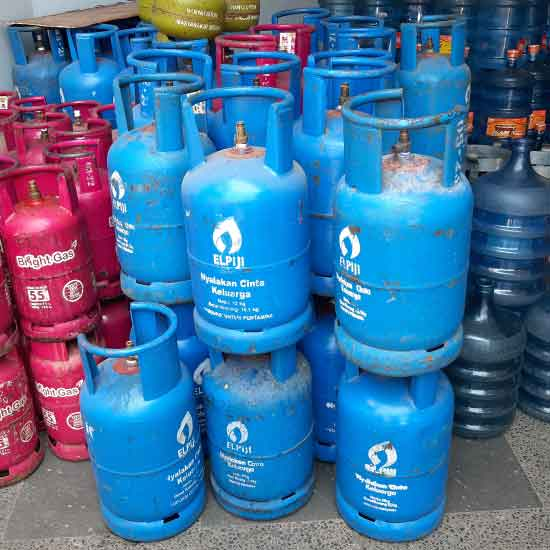blue_gas: (336, 88, 464, 371), (182, 90, 316, 352), (79, 302, 208, 541), (109, 74, 225, 303), (338, 352, 456, 541), (209, 343, 315, 524), (395, 15, 470, 152), (128, 46, 212, 146), (222, 56, 297, 144), (57, 21, 125, 114), (324, 18, 394, 94), (6, 24, 70, 104)
bright_gas: (1, 163, 99, 338), (31, 338, 112, 466), (1, 340, 42, 489), (216, 25, 308, 86), (5, 100, 96, 160)
gas_ijo: (139, 1, 261, 42)
